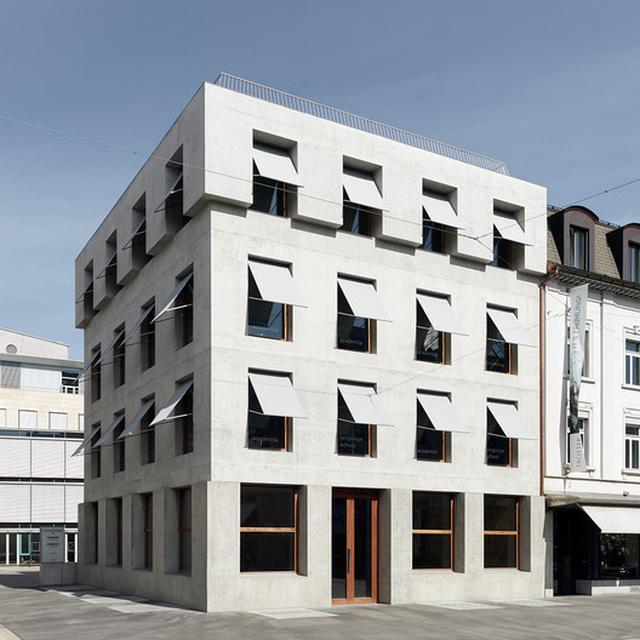building: (82, 75, 549, 604), (544, 189, 640, 639), (0, 319, 86, 539)
